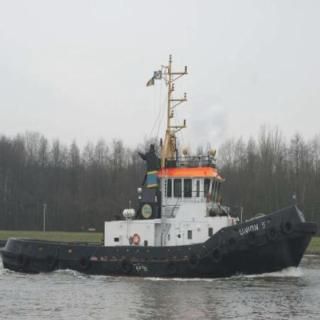Tug Boat: (2, 65, 316, 274)
